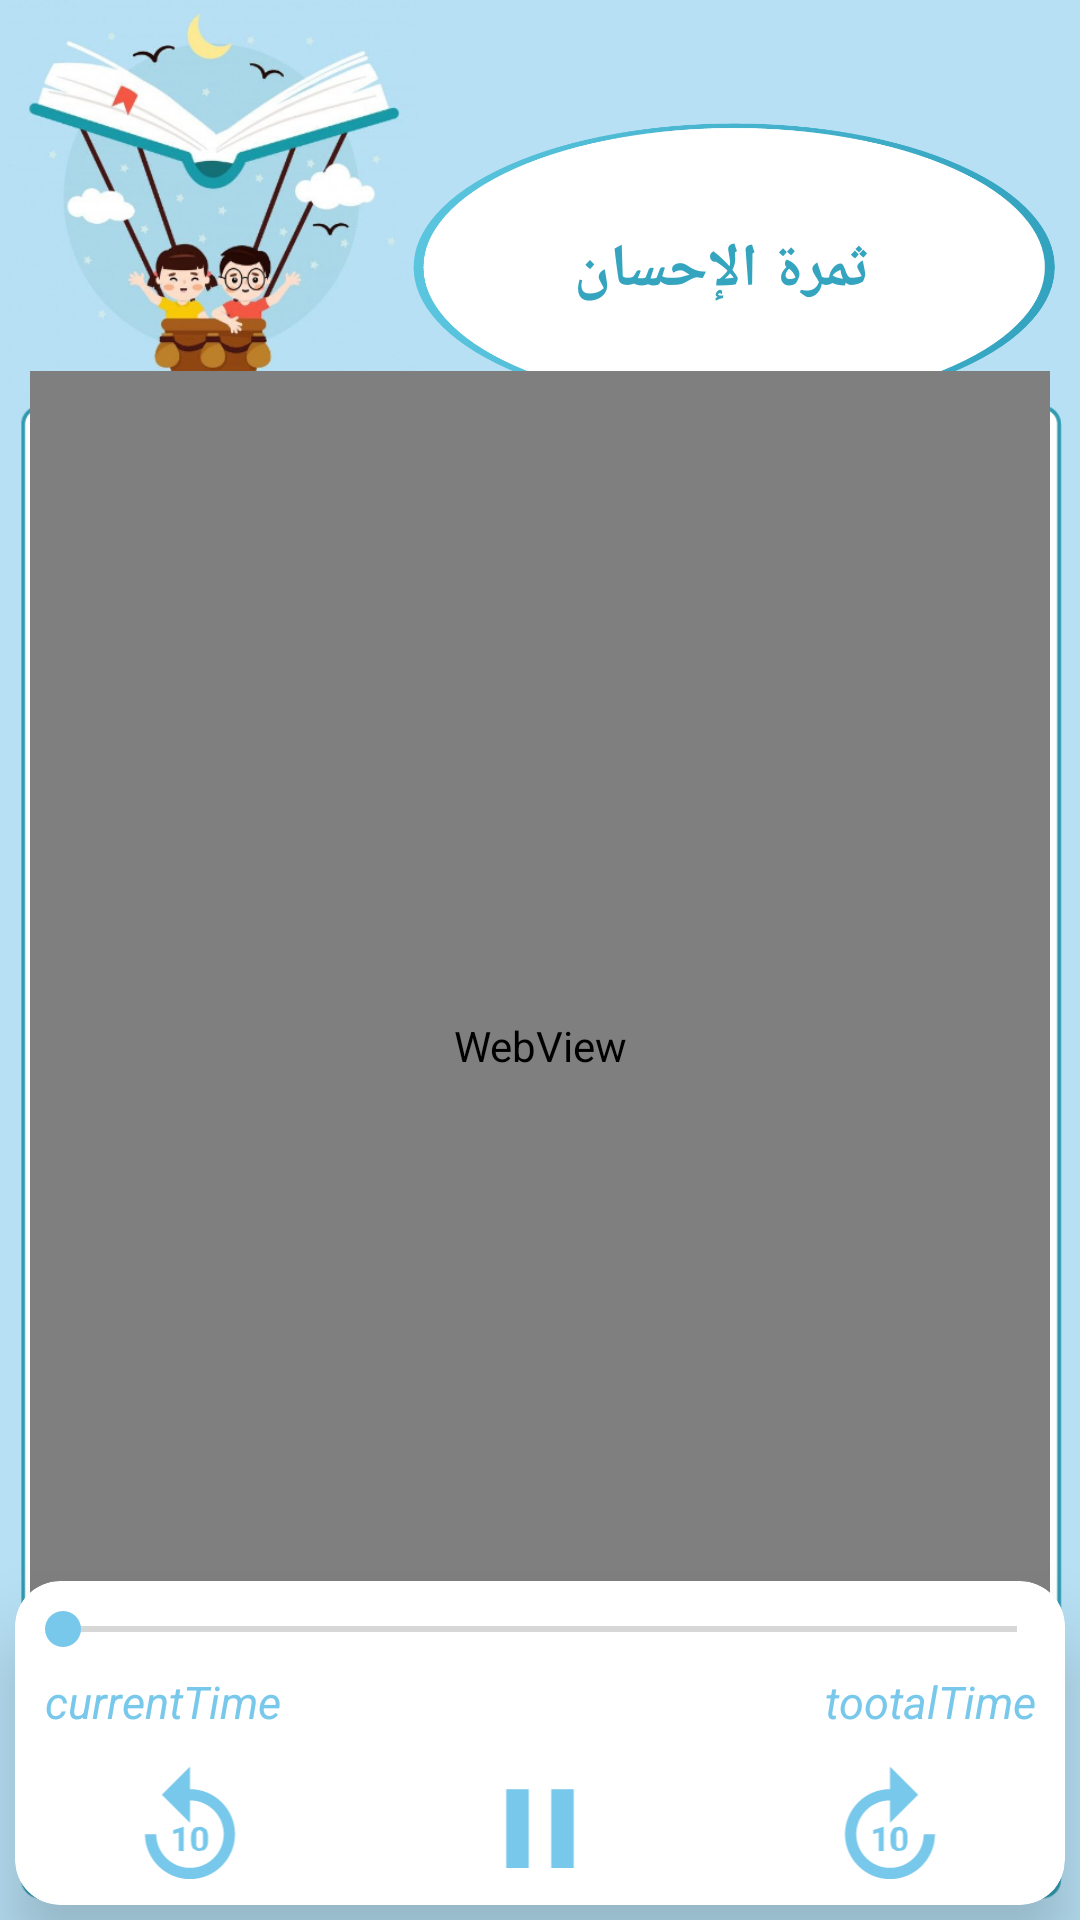

Icons on this 1080×1920 Android screen, each with the point to tap as [x,y]:
forward: [890,1823]
pause: [540,1828]
replay: [190,1823]
